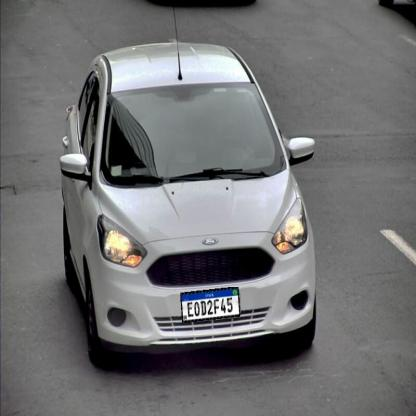PlacaM: (181, 287, 240, 322)
